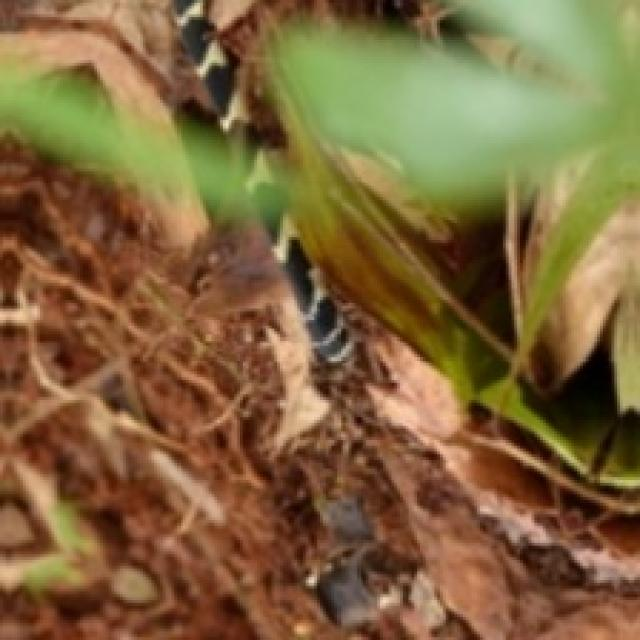king cobra: (174, 0, 355, 363)
